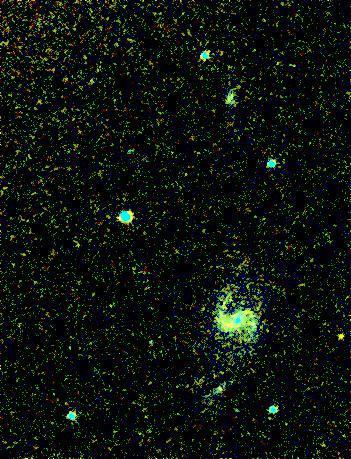star: (322, 324, 351, 354)
